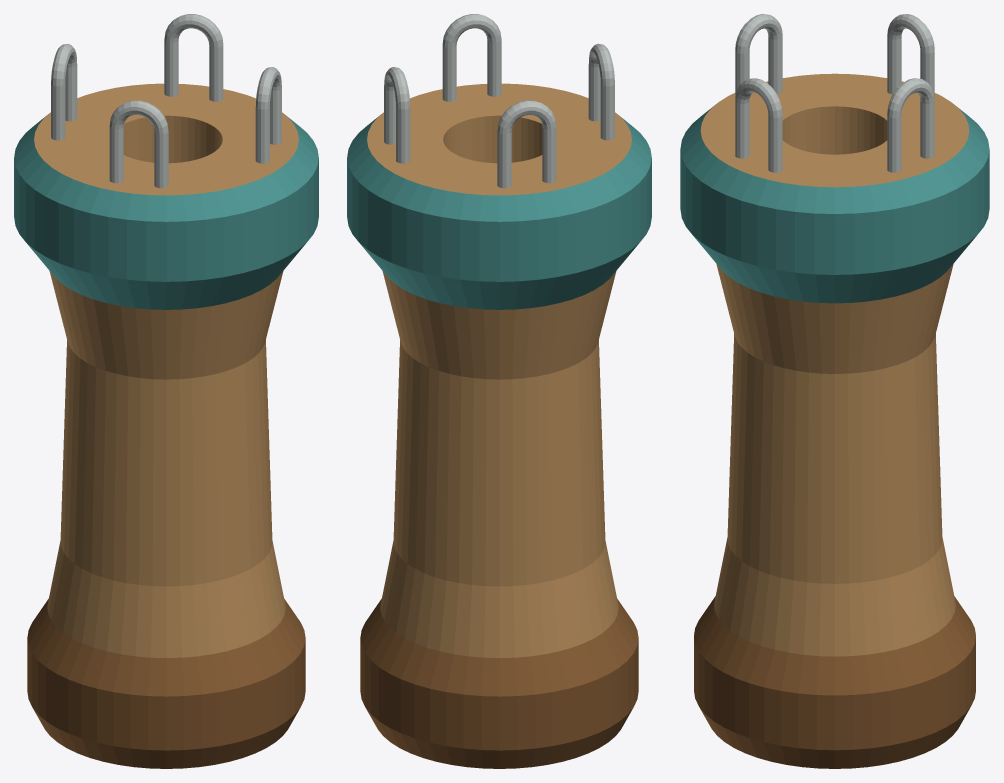
3 views of the same model, side by side, from view 1: azimuth 30°, elevation 25°; view 2: azimuth 150°, elevation 25°; view 3: azimuth 270°, elevation 25° (orthographic).
Parts seen in each view (by area): view 1: WholeContinuousThroughBoreShapedBody, WholeRootedCrownLoop_2, WholeRootedCrownLoop_0, WholeRootedCrownLoop_1, WholeRootedCrownLoop_3; view 2: WholeContinuousThroughBoreShapedBody, WholeRootedCrownLoop_1, WholeRootedCrownLoop_3, WholeRootedCrownLoop_2, WholeRootedCrownLoop_0; view 3: WholeContinuousThroughBoreShapedBody, WholeRootedCrownLoop_0, WholeRootedCrownLoop_3, WholeRootedCrownLoop_1, WholeRootedCrownLoop_2.
Boxes of the visible parts, x1,y1,x2,y2 form: WholeContinuousThroughBoreShapedBody: (14, 83, 318, 768); WholeRootedCrownLoop_2: (109, 100, 168, 188); WholeRootedCrownLoop_0: (164, 14, 223, 101); WholeRootedCrownLoop_1: (51, 43, 77, 140); WholeRootedCrownLoop_3: (255, 67, 281, 163); WholeContinuousThroughBoreShapedBody: (347, 83, 651, 768); WholeRootedCrownLoop_1: (497, 100, 556, 188); WholeRootedCrownLoop_3: (442, 14, 501, 101); WholeRootedCrownLoop_2: (588, 43, 614, 140); WholeRootedCrownLoop_0: (384, 67, 410, 163); WholeContinuousThroughBoreShapedBody: (680, 73, 989, 768); WholeRootedCrownLoop_0: (887, 78, 934, 172); WholeRootedCrownLoop_3: (735, 78, 782, 172); WholeRootedCrownLoop_1: (887, 14, 934, 96); WholeRootedCrownLoop_2: (735, 14, 782, 96).
Bounding box in the file's own units: 0.046 × 0.1096 × 0.046.
